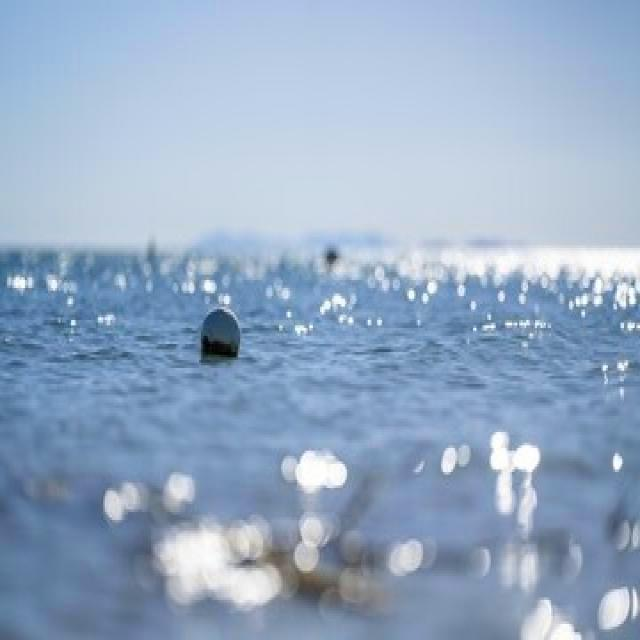Trash: (195, 306, 242, 363)
